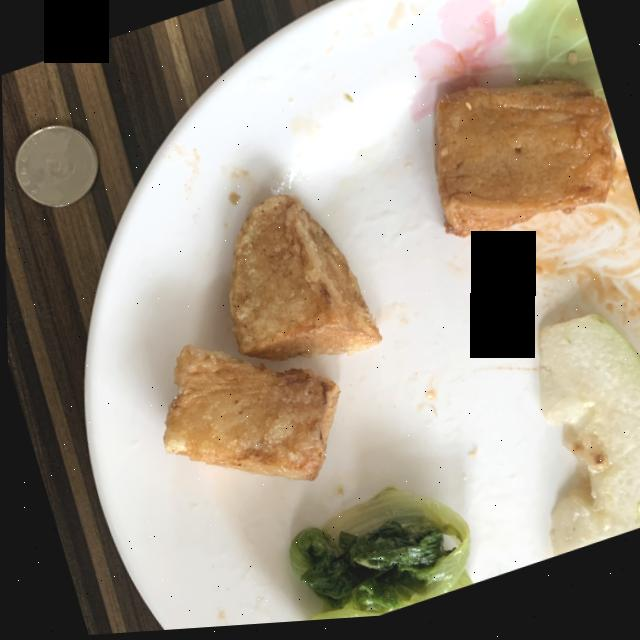coin: (14, 126, 97, 207)
creamy tofu: (433, 87, 614, 243)
fried potato: (227, 198, 379, 364), (161, 347, 337, 484)
guava -sliced-: (537, 322, 640, 564)
mustard greens: (286, 493, 469, 624)
